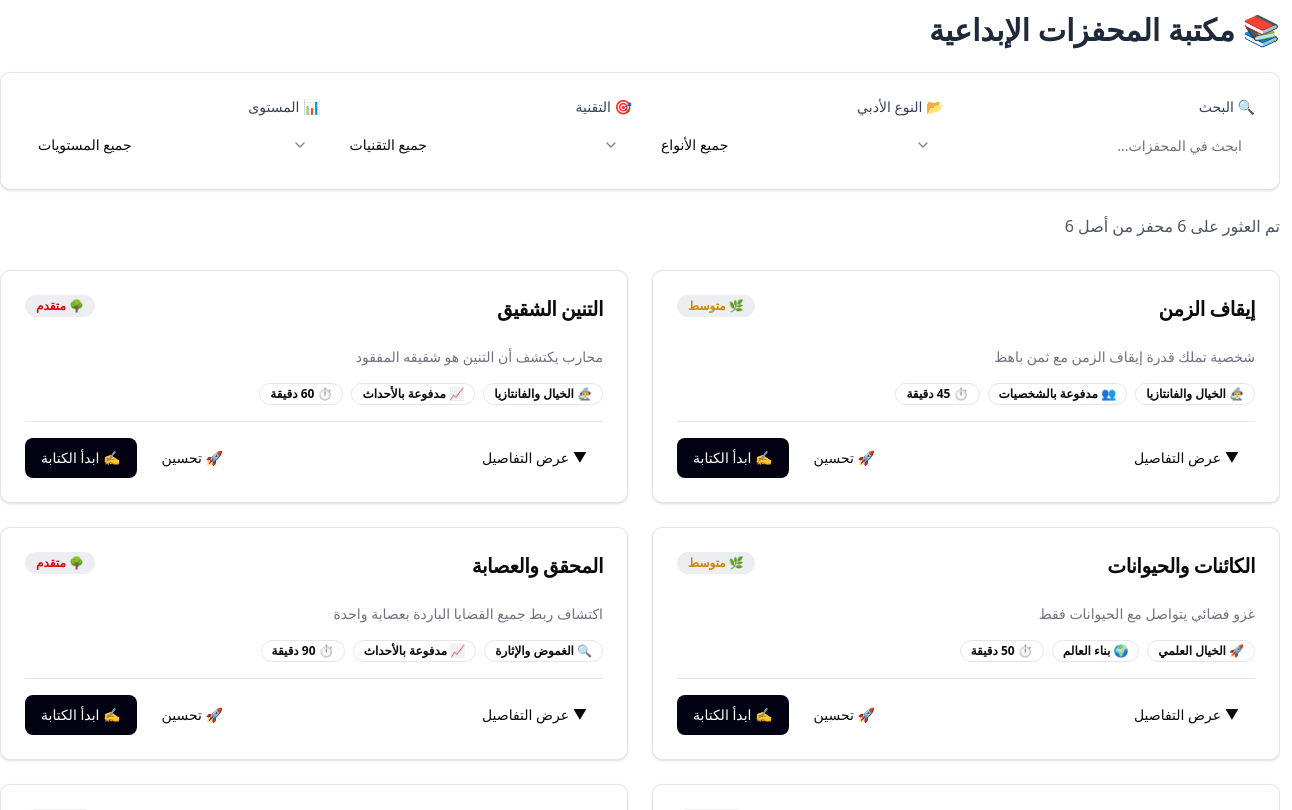
PromptLibrary › shows empty state when no prompts match filter
Type "nonexistent" into the field with placeholder "ابحث في المحفزات...".
click(1107, 145); type("nonexistent")  # box left=960, top=125, right=1255, bottom=165
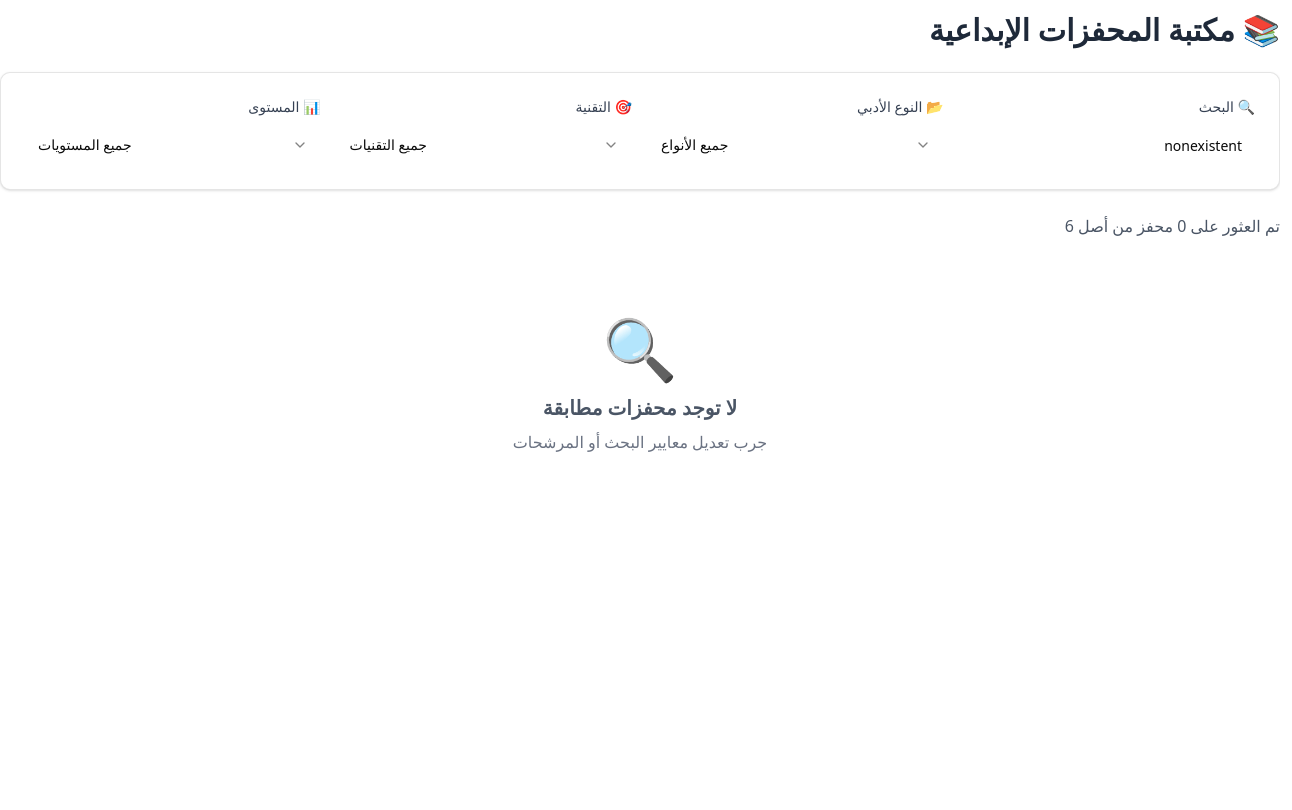
Check: the text "🔍" is shown, box left=603, top=307, right=678, bottom=389
Check: the heading "لا توجد محفزات مطابقة" is shown, box left=543, top=394, right=737, bottom=421
